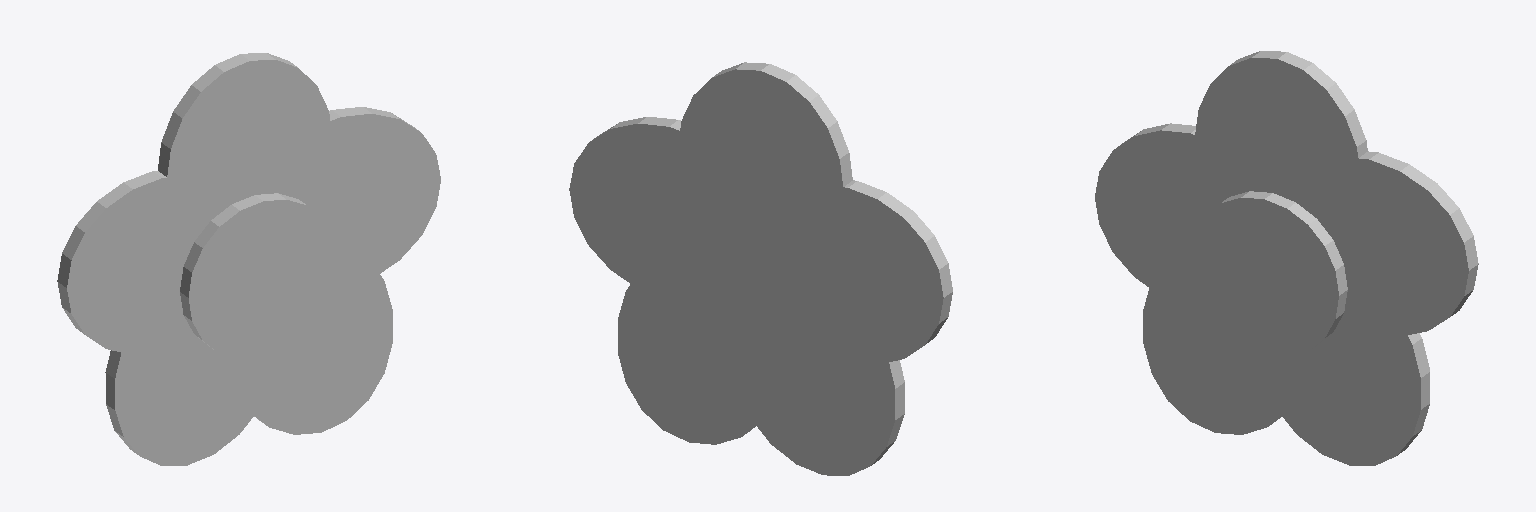
The model's file is blueflower.obj.
The picture shows the model from 3 angles: view 1: azimuth 30°, elevation 25°; view 2: azimuth 150°, elevation 25°; view 3: azimuth 330°, elevation 25°; orthographic projection.
Parts seen in each view (by area): view 1: obj_0; view 2: obj_0; view 3: obj_0.
Part boxes in pixels (x1,y1,x2,y2): obj_0: (57,53,440,465); obj_0: (569,62,952,475); obj_0: (1095,51,1478,465).
Bounding box in the file's own units: 26.16 × 26 × 2.79.